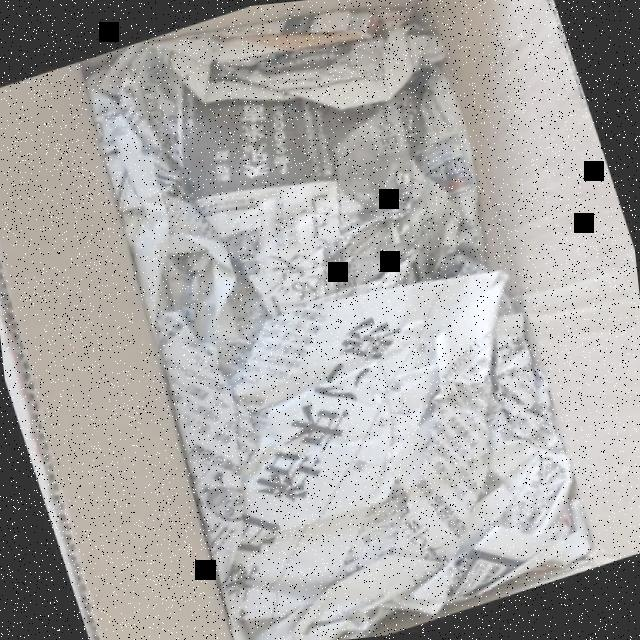reuseable_paper: (61, 0, 617, 640)
